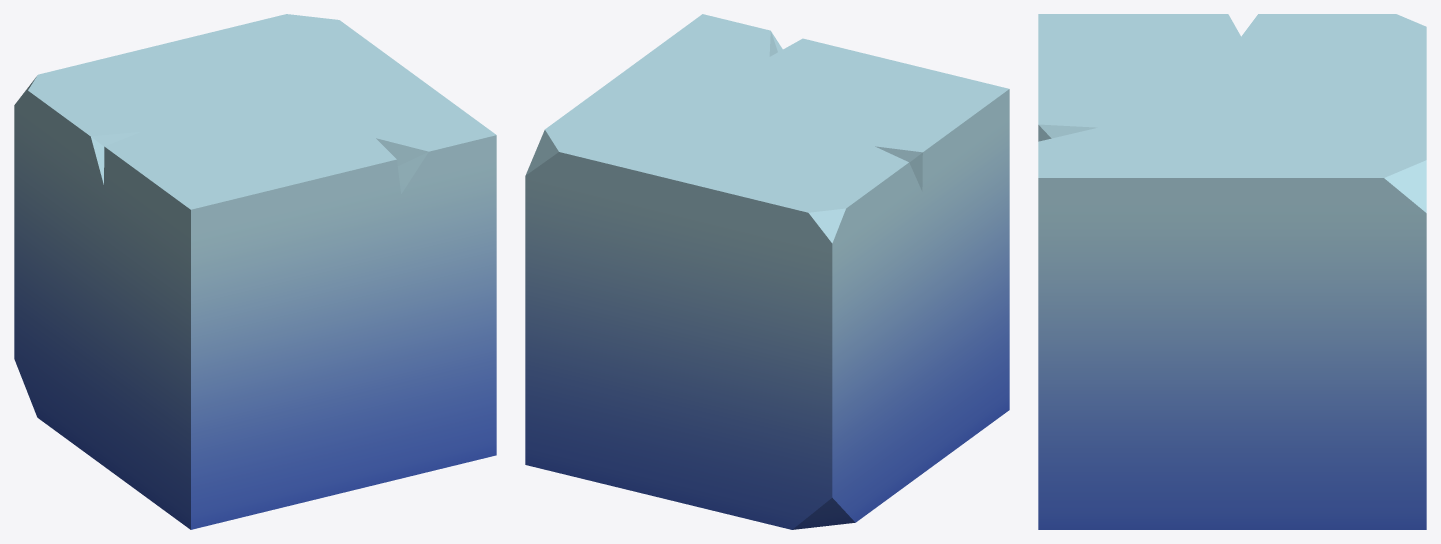
Rendered from Stone020.fbx.
3 views of the same model, side by side, from view 1: azimuth 30°, elevation 25°; view 2: azimuth 150°, elevation 25°; view 3: azimuth 270°, elevation 25° (orthographic). The views are drawn at different scales.
Visible parts, largest first — view 1: Stone020; view 2: Stone020; view 3: Stone020.
Boxes of the visible parts, x1,y1,x2,y2 form: Stone020: [14, 14, 496, 529]; Stone020: [525, 14, 1009, 529]; Stone020: [1038, 14, 1426, 529].
Size of the model in its own units: 156 by 156 by 156.
